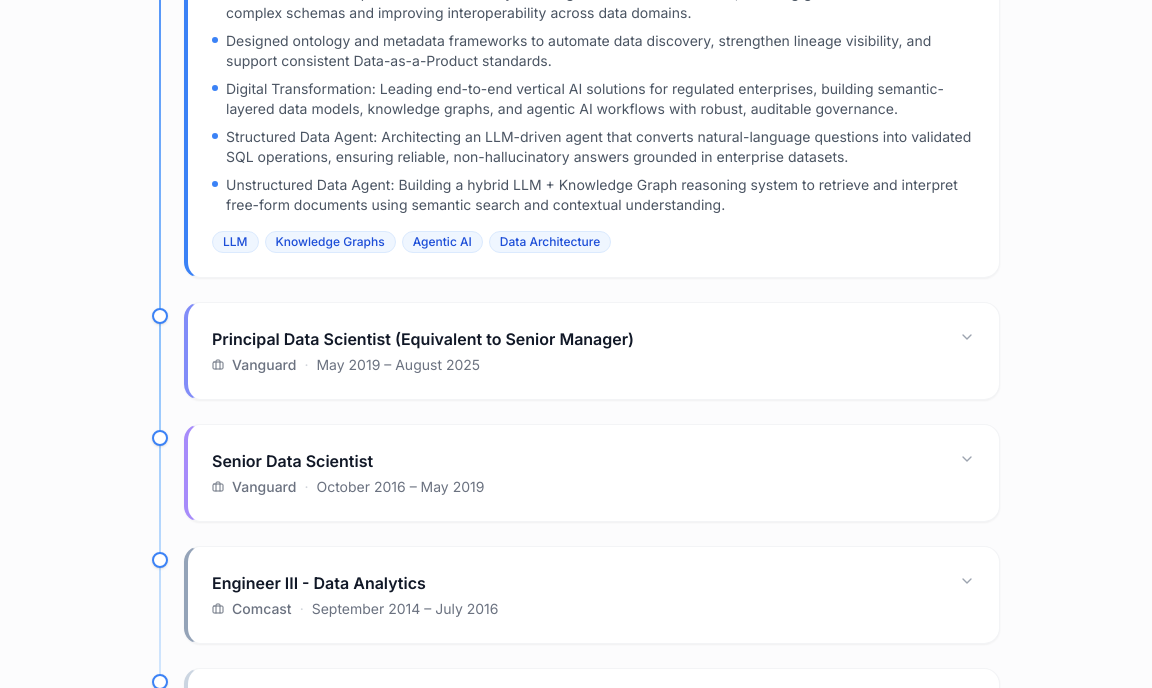
Scenario: Experience component › expands a collapsed job when clicked
This screenshot has width=1152, height=688.
(page scrolled)
Note: Second button corresponds to second job
Step 1. Click the 1st button → [594, 350], box [212, 326, 975, 374]
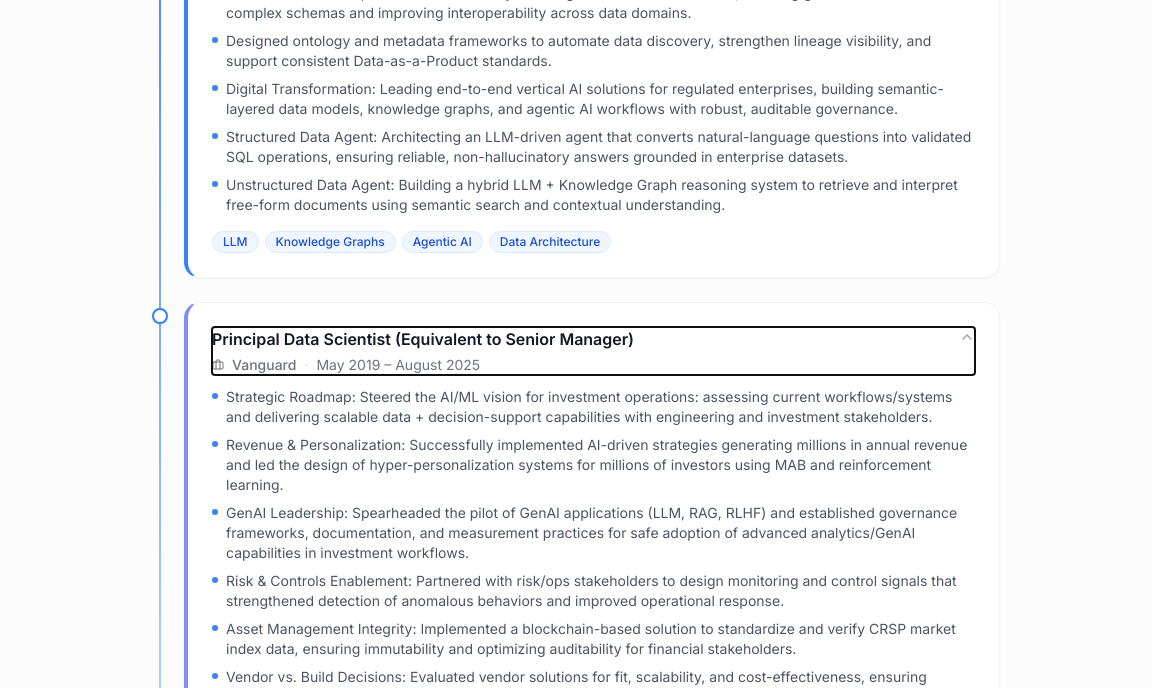
expect the list item "Strategic Roadmap: Steered the AI/ML vision for investment operations: assessing current workflows/systems and deliverin" is shown: met, box [226, 388, 952, 424]
